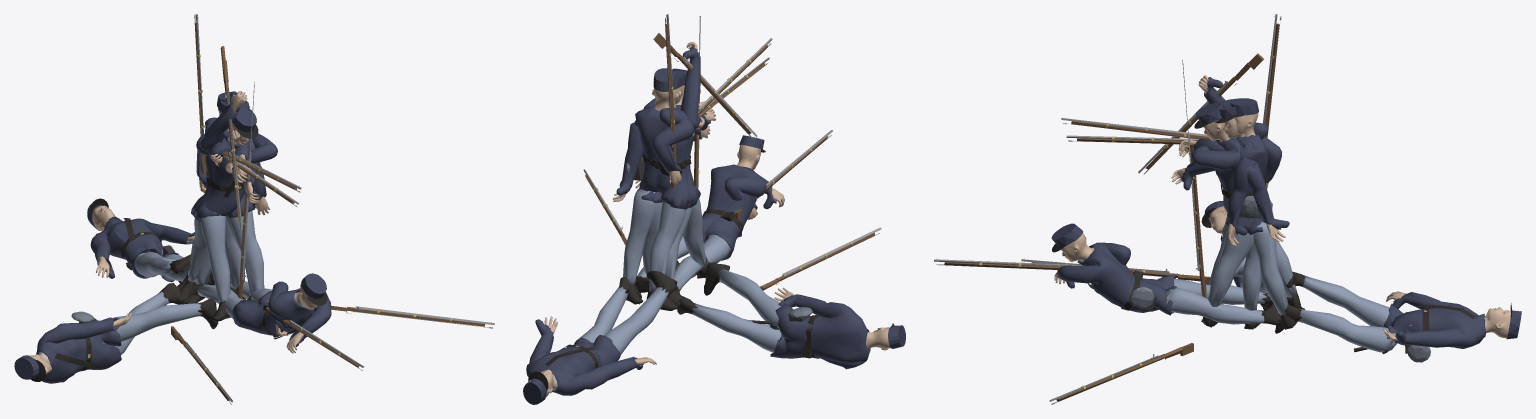
File: union_a_mid.fbx
3 renders of one model, left to right at view 1: azimuth 30°, elevation 25°; view 2: azimuth 150°, elevation 25°; view 3: azimuth 270°, elevation 25°, orthographic. The views are drawn at different scales.
Visible parts, largest first — view 1: pose_fallen_side, pose_melee, pose_fallen_back, pose_prone_fire, pose_reload_rod, pose_march_b, pose_march_a, pose_aim, pose_fire; view 2: pose_fallen_side, pose_fallen_back, pose_prone_fire, pose_march_b, pose_march_a, pose_aim, pose_fire, pose_reload_rod, pose_melee; view 3: pose_fallen_back, pose_prone_fire, pose_melee, pose_march_b, pose_march_a, pose_reload_rod, pose_fire, pose_aim, pose_fallen_side.
Boxes of the visible parts, <box> form: pose_fallen_side: <box>14,282,494,383</box>; pose_melee: <box>176,46,277,302</box>; pose_fallen_back: <box>87,198,232,404</box>; pose_prone_fire: <box>178,270,364,370</box>; pose_reload_rod: <box>185,81,260,303</box>; pose_march_b: <box>195,101,243,321</box>; pose_march_a: <box>177,14,270,299</box>; pose_aim: <box>191,100,298,299</box>; pose_fire: <box>190,92,301,263</box>; pose_fallen_side: <box>583,169,905,369</box>; pose_fallen_back: <box>523,227,881,404</box>; pose_prone_fire: <box>635,130,832,295</box>; pose_march_b: <box>613,70,729,304</box>; pose_march_a: <box>626,14,693,310</box>; pose_aim: <box>626,57,769,268</box>; pose_fire: <box>635,38,772,274</box>; pose_reload_rod: <box>642,16,710,300</box>; pose_melee: <box>641,33,757,305</box>; pose_fallen_back: <box>1021,258,1521,362</box>; pose_prone_fire: <box>934,223,1281,325</box>; pose_melee: <box>1138,53,1263,327</box>; pose_march_b: <box>1208,100,1304,329</box>; pose_march_a: <box>1201,14,1301,322</box>; pose_reload_rod: <box>1171,60,1272,329</box>; pose_fire: <box>1061,98,1279,325</box>; pose_aim: <box>1066,101,1291,329</box>; pose_fallen_side: <box>1049,201,1267,404</box>.
Bounding box in the file's own units: 3.4 × 2.63 × 4.19.
